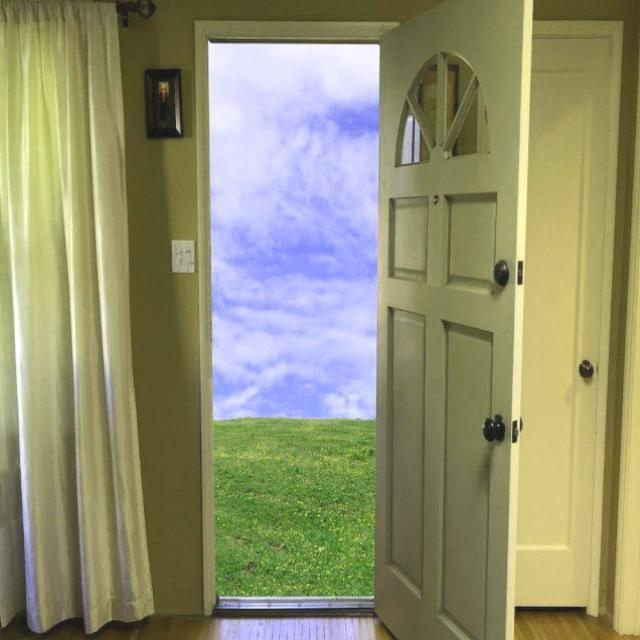door: (372, 0, 529, 639)
